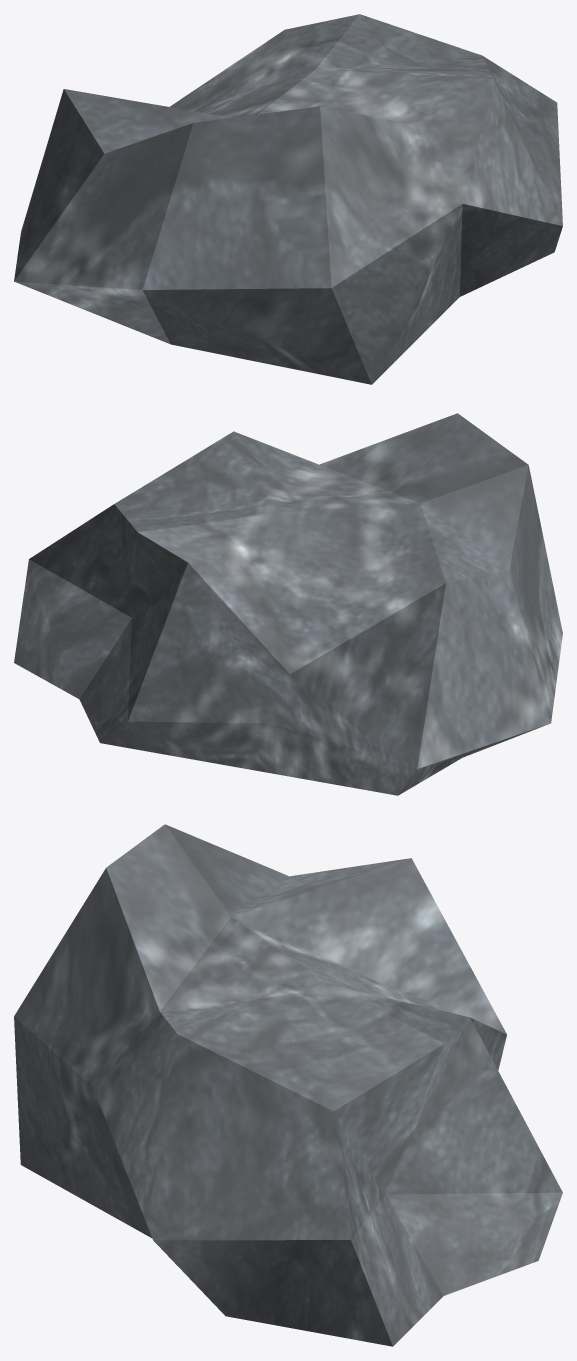
The model's file is RockC.fbx.
3 views of the same model, one above another, from view 1: azimuth 30°, elevation 25°; view 2: azimuth 150°, elevation 25°; view 3: azimuth 270°, elevation 25° (orthographic). The views are drawn at different scales.
Visible parts, largest first — view 1: RockC; view 2: RockC; view 3: RockC.
Boxes of the visible parts, box(x1,y1,x2,y2) form: RockC: box(14, 14, 562, 384); RockC: box(14, 413, 562, 795); RockC: box(14, 824, 562, 1346).
Bounding box in the file's own units: 321 × 143 × 245.
